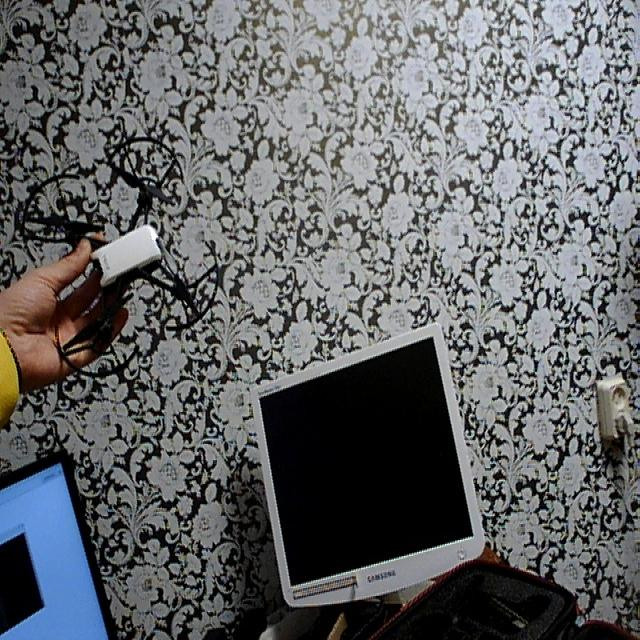drone: (17, 130, 235, 416)
